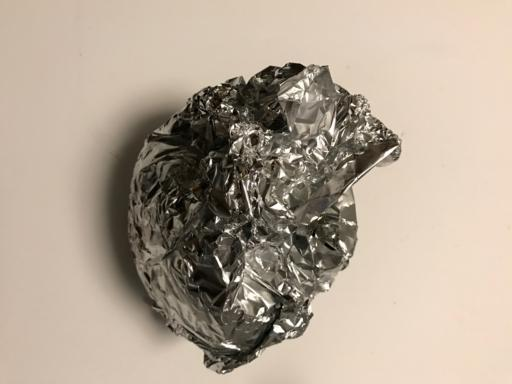metal: (125, 63, 404, 373)
